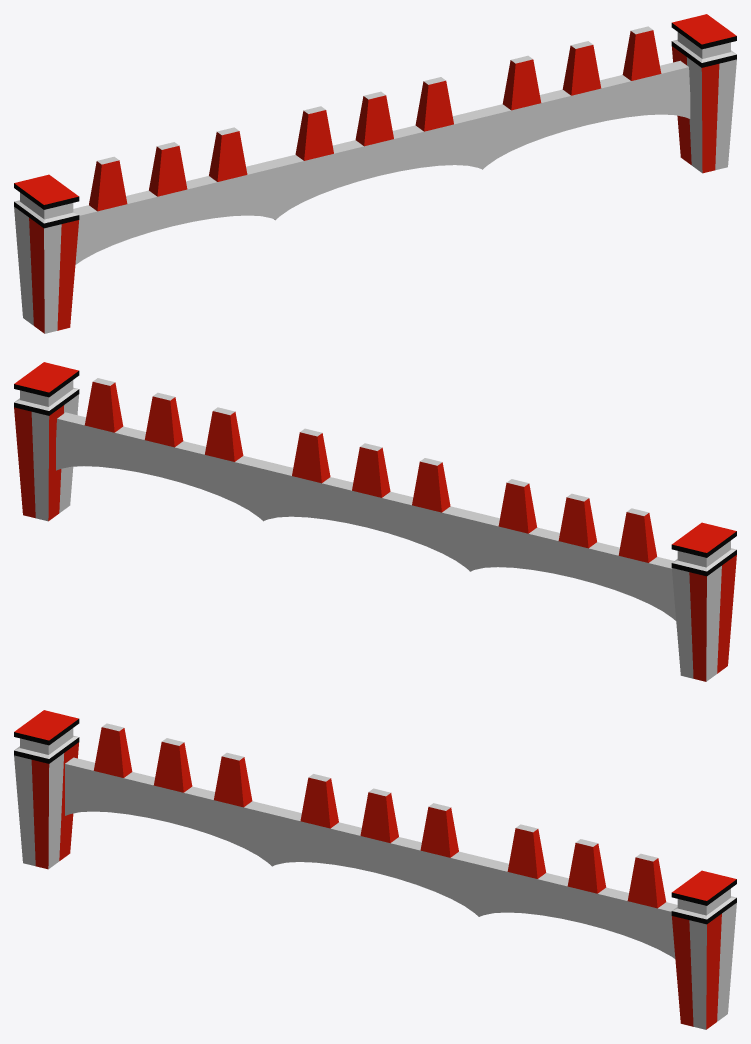
Rendered from City_railing.fbx.
3 views of the same model, one above another, from view 1: azimuth 30°, elevation 25°; view 2: azimuth 150°, elevation 25°; view 3: azimuth 330°, elevation 25° (orthographic).
Parts seen in each view (by area): view 1: Cylinder.027, Cylinder.025, Cylinder.026, Cube.110, Cube.112; view 2: Cylinder.025, Cylinder.027, Cylinder.026, Cube.110, Cube.112; view 3: Cylinder.025, Cylinder.026, Cylinder.027, Cube.112, Cube.110.
Part boxes in pixels (left/top/right/bottom): Cylinder.027: left=474, top=26, right=690, bottom=169; Cylinder.025: left=267, top=77, right=482, bottom=220; Cylinder.026: left=73, top=127, right=275, bottom=264; Cube.110: left=14, top=174, right=79, bottom=333; Cube.112: left=671, top=14, right=736, bottom=173; Cylinder.025: left=263, top=428, right=478, bottom=571; Cylinder.027: left=56, top=378, right=271, bottom=521; Cylinder.026: left=469, top=479, right=676, bottom=620; Cube.110: left=671, top=522, right=736, bottom=681; Cube.112: left=14, top=362, right=79, bottom=521; Cylinder.025: left=271, top=774, right=487, bottom=916; Cylinder.026: left=65, top=723, right=280, bottom=866; Cylinder.027: left=478, top=824, right=677, bottom=958; Cube.112: left=671, top=870, right=736, bottom=1029; Cube.110: left=14, top=710, right=79, bottom=869.
Bounding box in the file's own units: 36.86 × 7.36 × 2.77.
